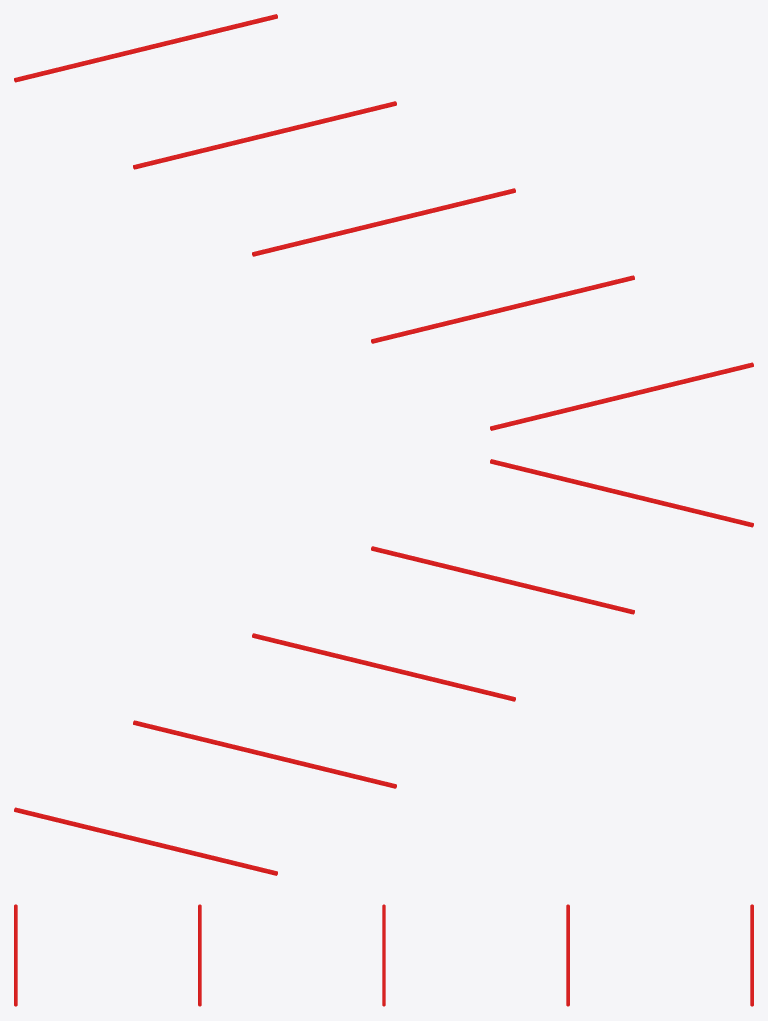
File: lasers_firstHall_exported.fbx
3 views of the same model, one above another, from view 1: azimuth 30°, elevation 25°; view 2: azimuth 150°, elevation 25°; view 3: azimuth 270°, elevation 25° (orthographic). The views are drawn at different scales.
Parts seen in each view (by area): view 1: laser_5; view 2: laser_5; view 3: laser_5.
Boxes of the visible parts, x1,y1,x2,y2 form: laser_5: (14,14,753,430); laser_5: (14,459,753,875); laser_5: (14,904,753,1006).
Size of the model in its own units: 10.16 by 0.1586 by 32.16.
